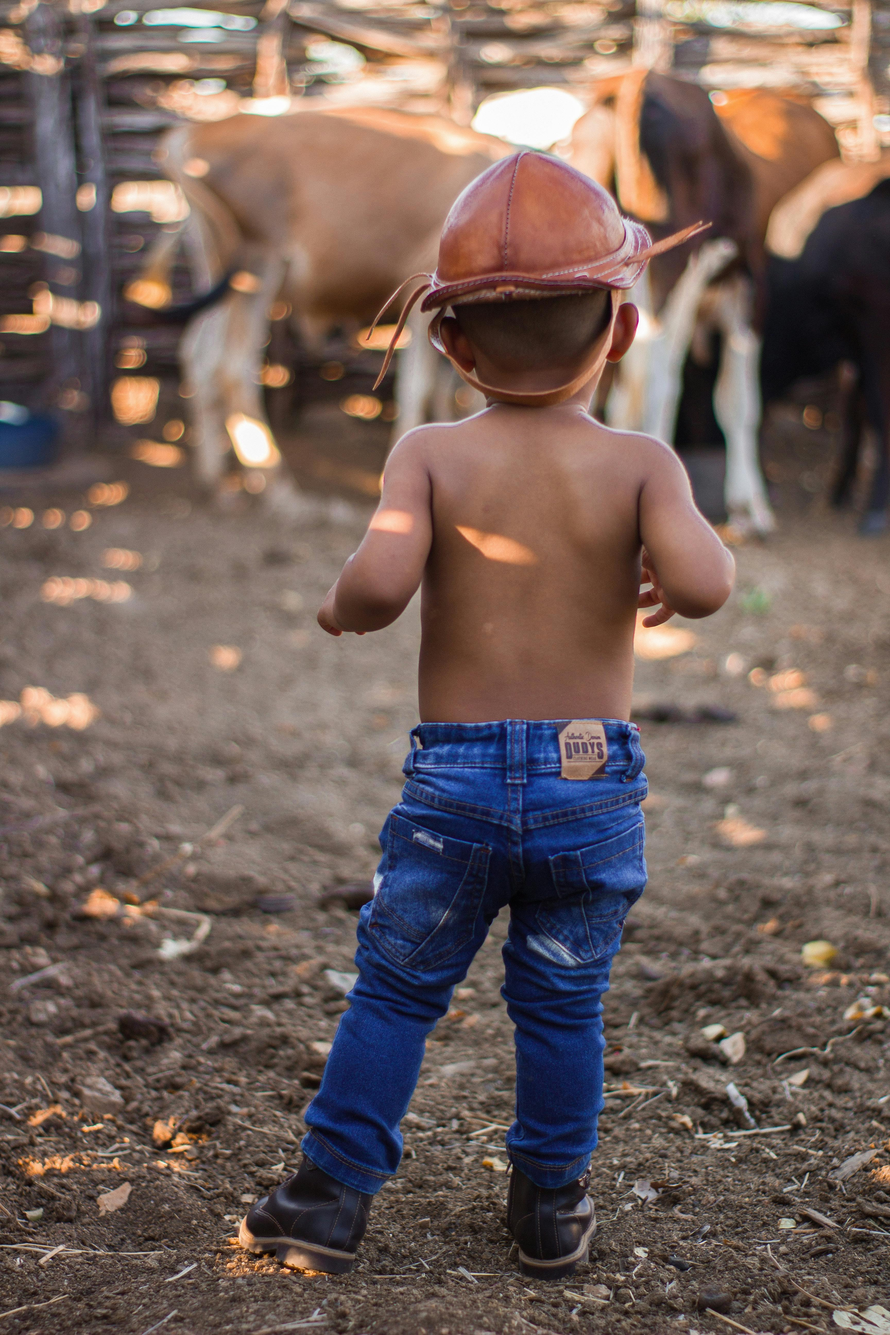Human: (264, 127, 710, 1278)
